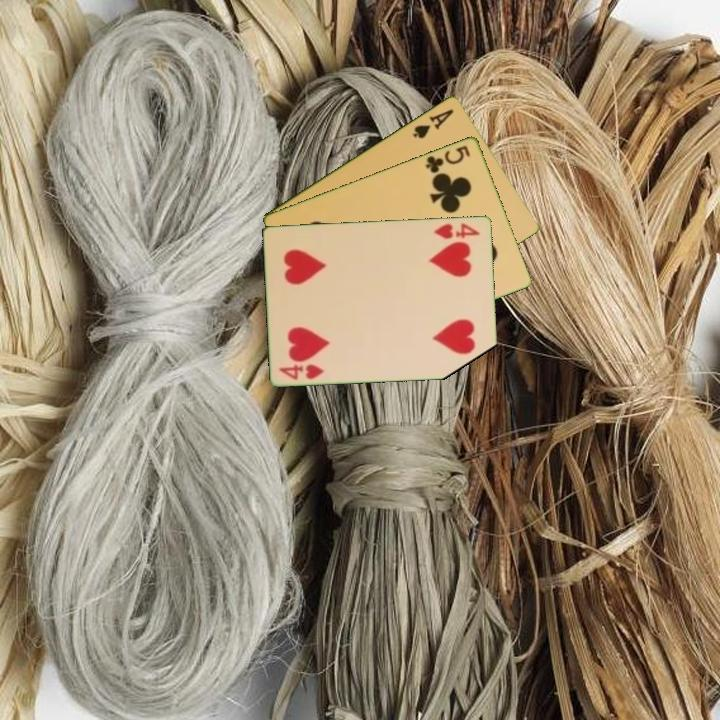4h: (431, 219, 483, 241), (276, 360, 327, 382)
5c: (422, 142, 473, 176)
As: (409, 105, 457, 141)
